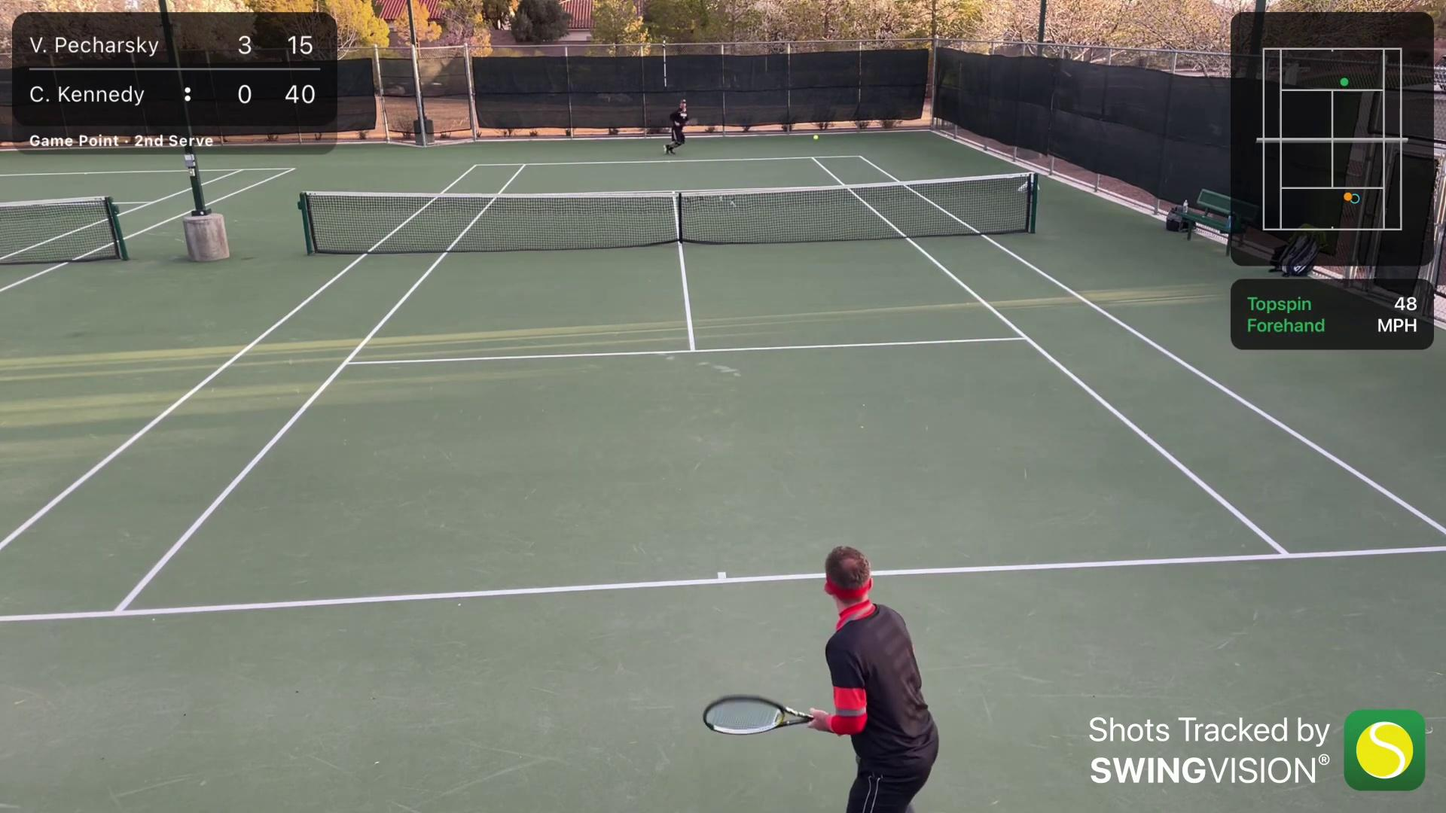ball: (812, 134, 819, 141)
